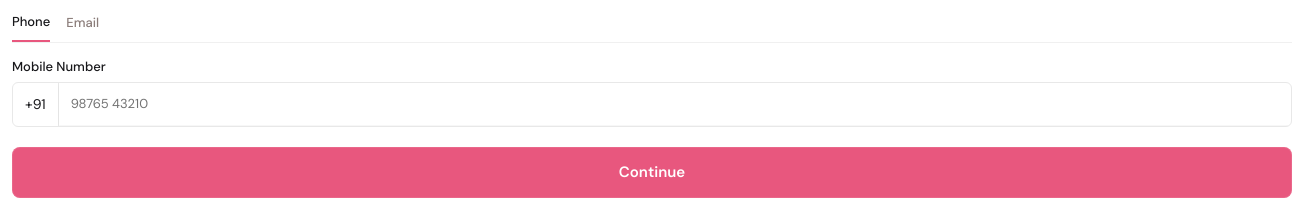
OtpForm › shows OTP input after phone submission
Step 1. Type "9876543210" into the field labelled "Mobile Number" → (675, 104), box [59,84,1291,125]
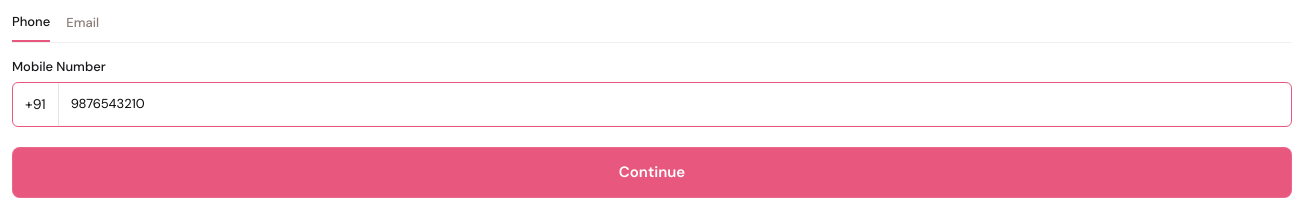
Step 2. Click the button "Continue" → (652, 172), box [12,147,1292,198]
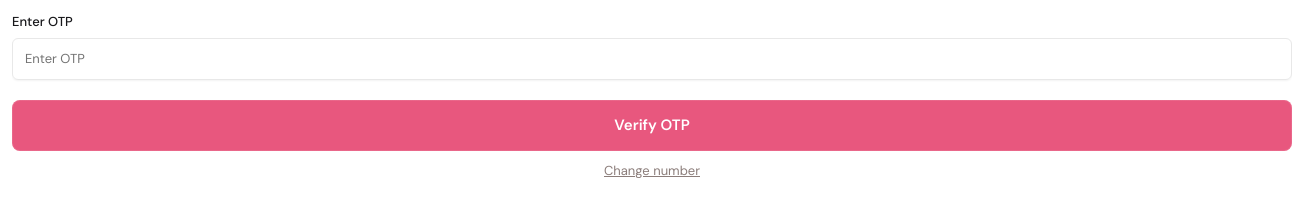
Expected: the field with placeholder "Enter OTP" is shown, [12,38,1292,80]
